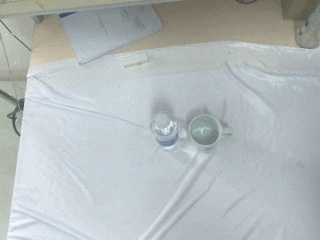bottle: (150, 111, 198, 166), (293, 1, 320, 49)
cup: (187, 114, 223, 151)
